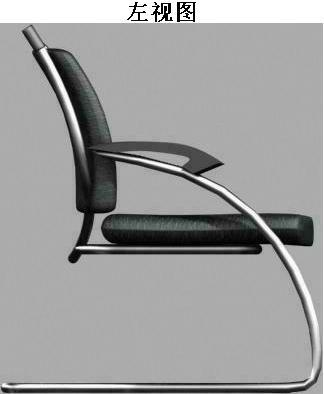obstacle: (1, 24, 311, 382)
